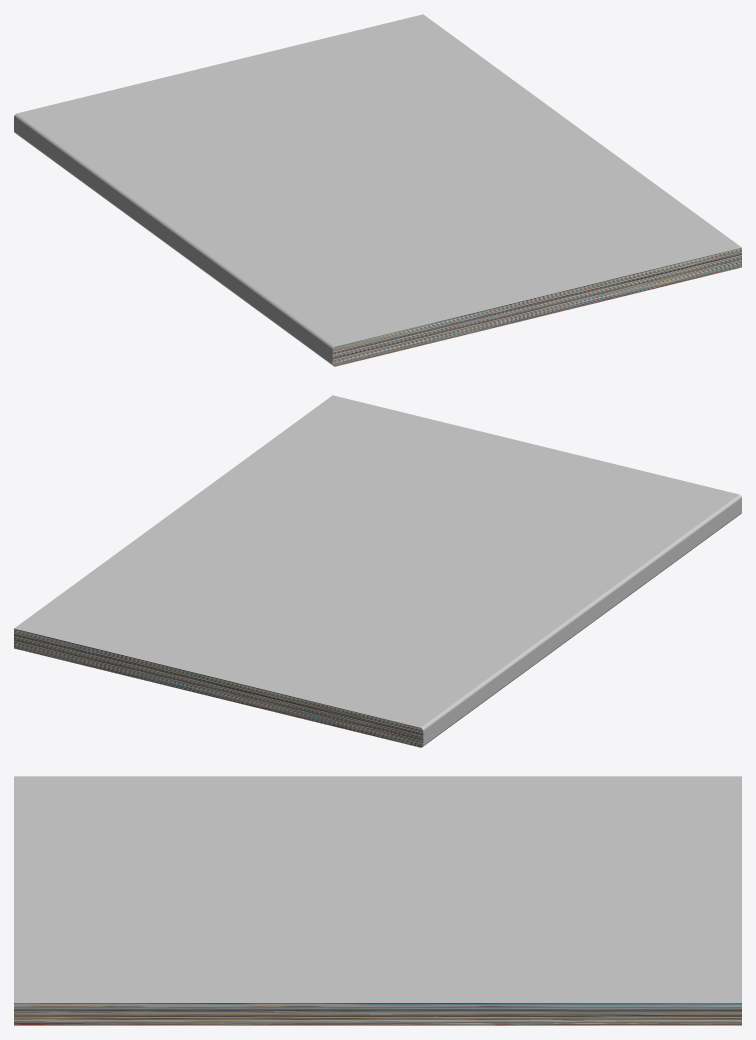
The model's file is Magazine.fbx.
3 renders of one model, top to bottom at view 1: azimuth 30°, elevation 25°; view 2: azimuth 150°, elevation 25°; view 3: azimuth 270°, elevation 25°, orthographic. The views are drawn at different scales.
Parts seen in each view (by area): view 1: Magazine; view 2: Magazine; view 3: Magazine.
Part boxes in pixels (<box>): Magazine: <box>14,14,741,366</box>; Magazine: <box>14,395,741,747</box>; Magazine: <box>14,776,741,1025</box>.
Size of the model in its own units: 21.5 by 1 by 29.
